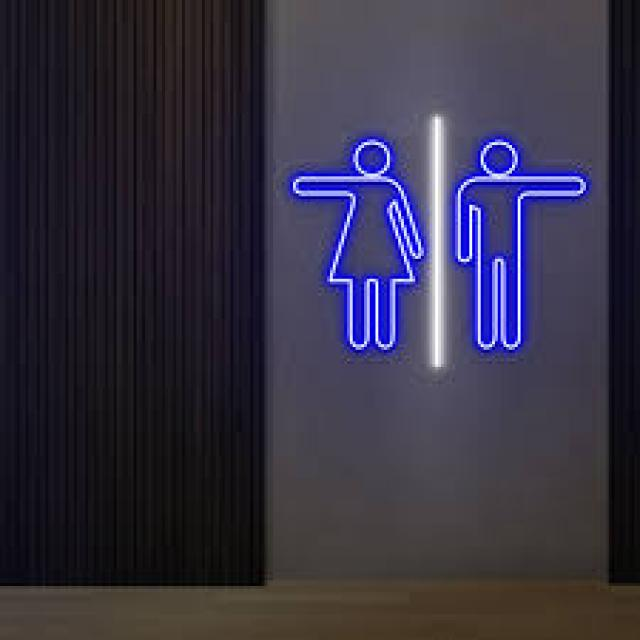toilet_icon: (286, 120, 597, 376)
